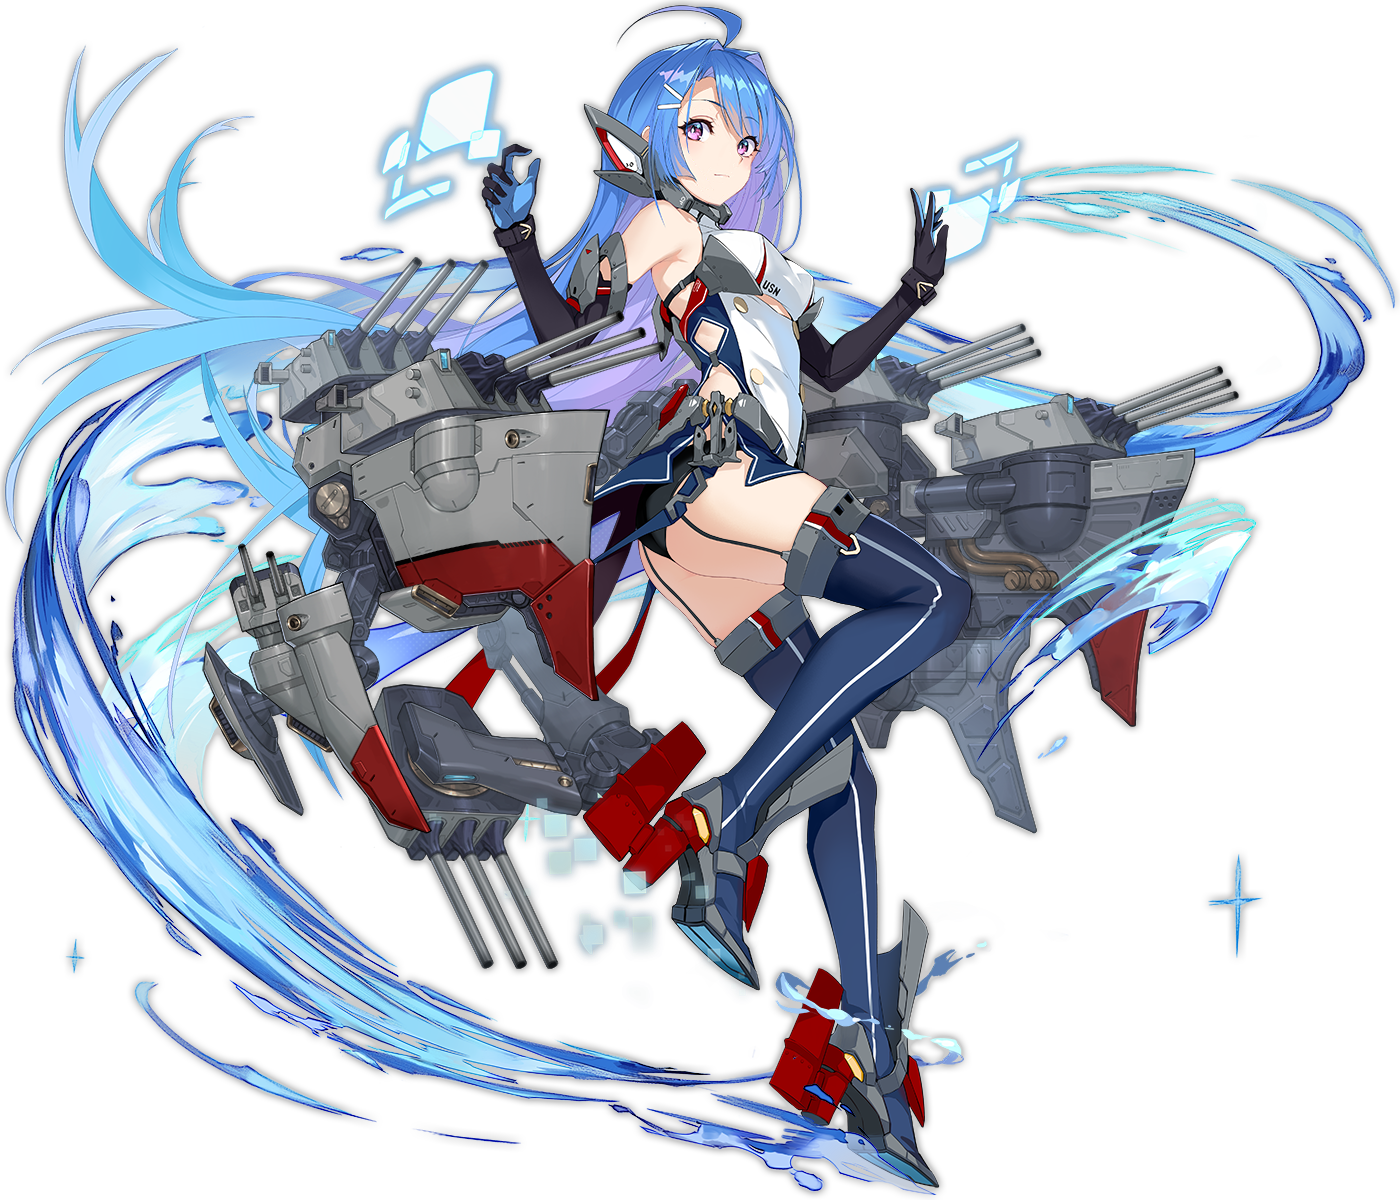person: (362, 40, 908, 910)
